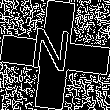N_S: (32, 28, 78, 82)
